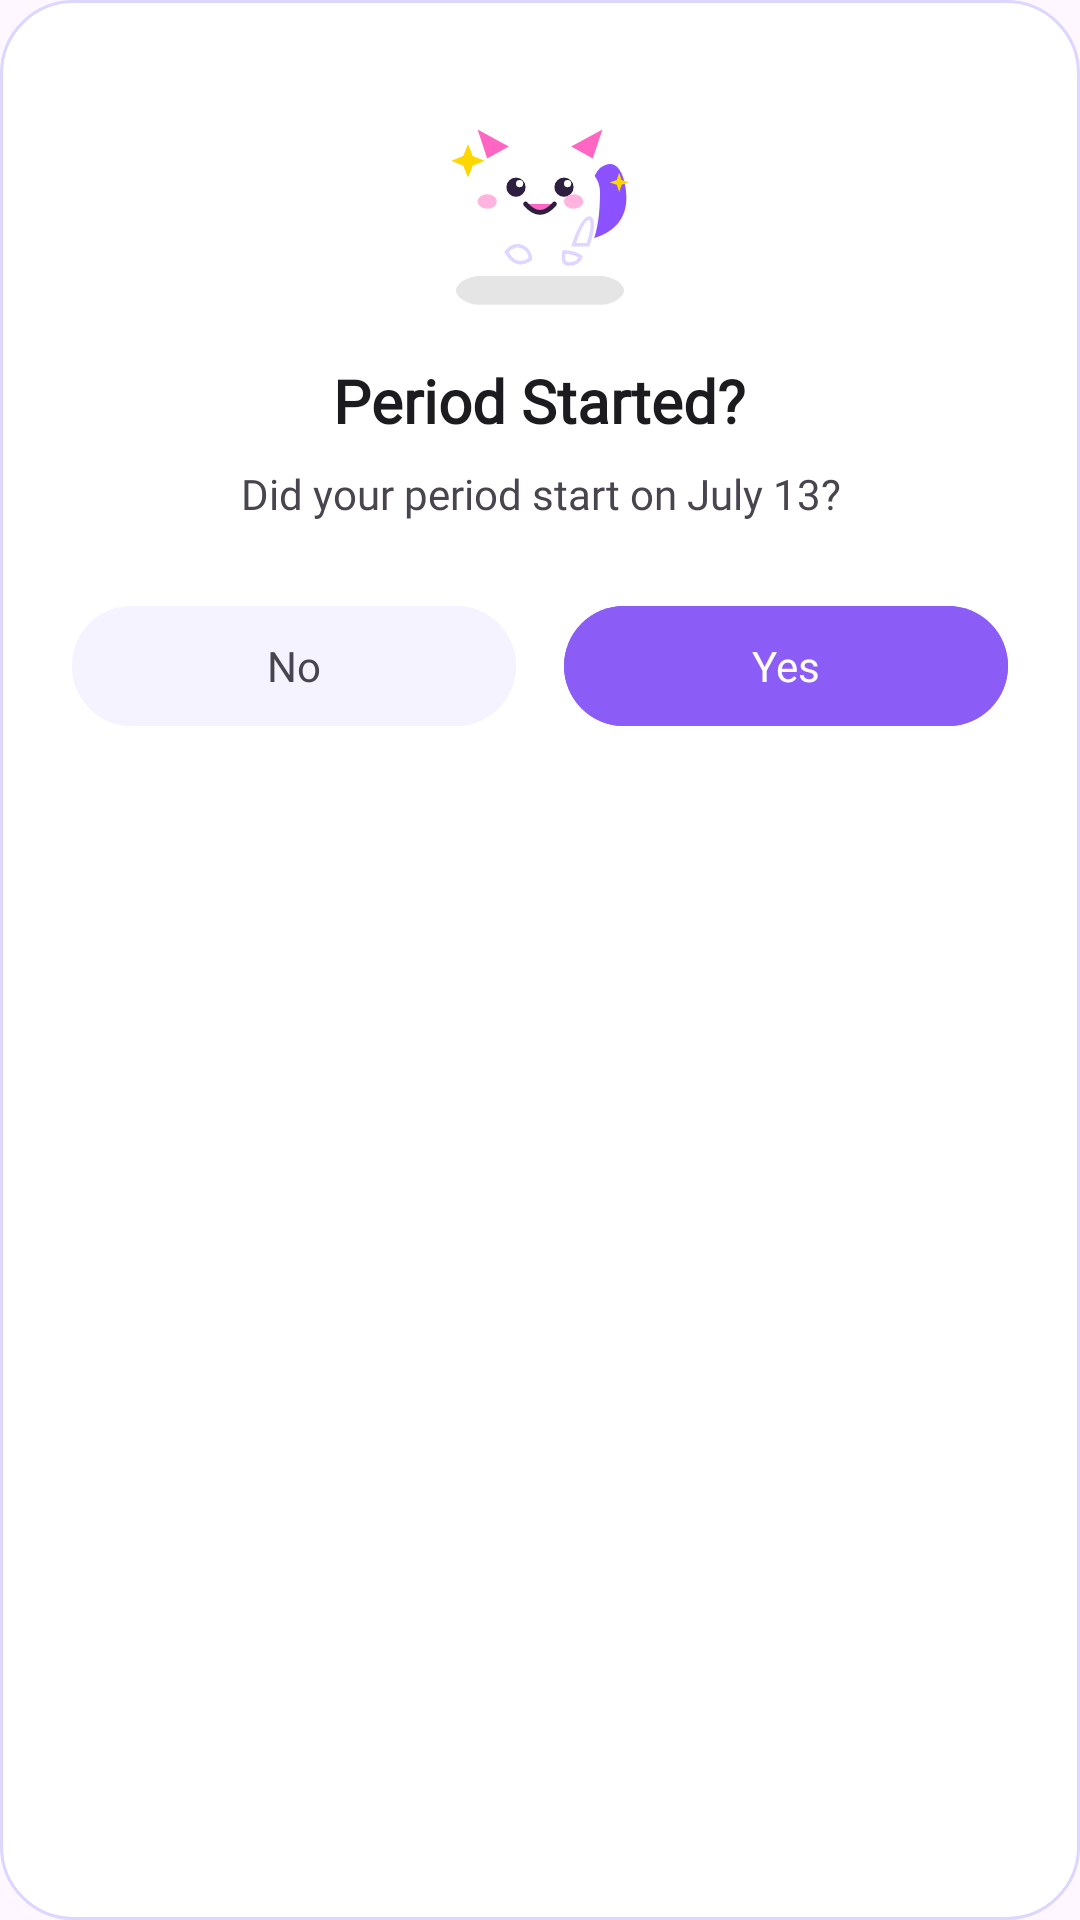

Icons on this 1080w x 1920h Android screen, each with the point to tap as point (x, y):
Mochi Mascot: point (540, 217)
